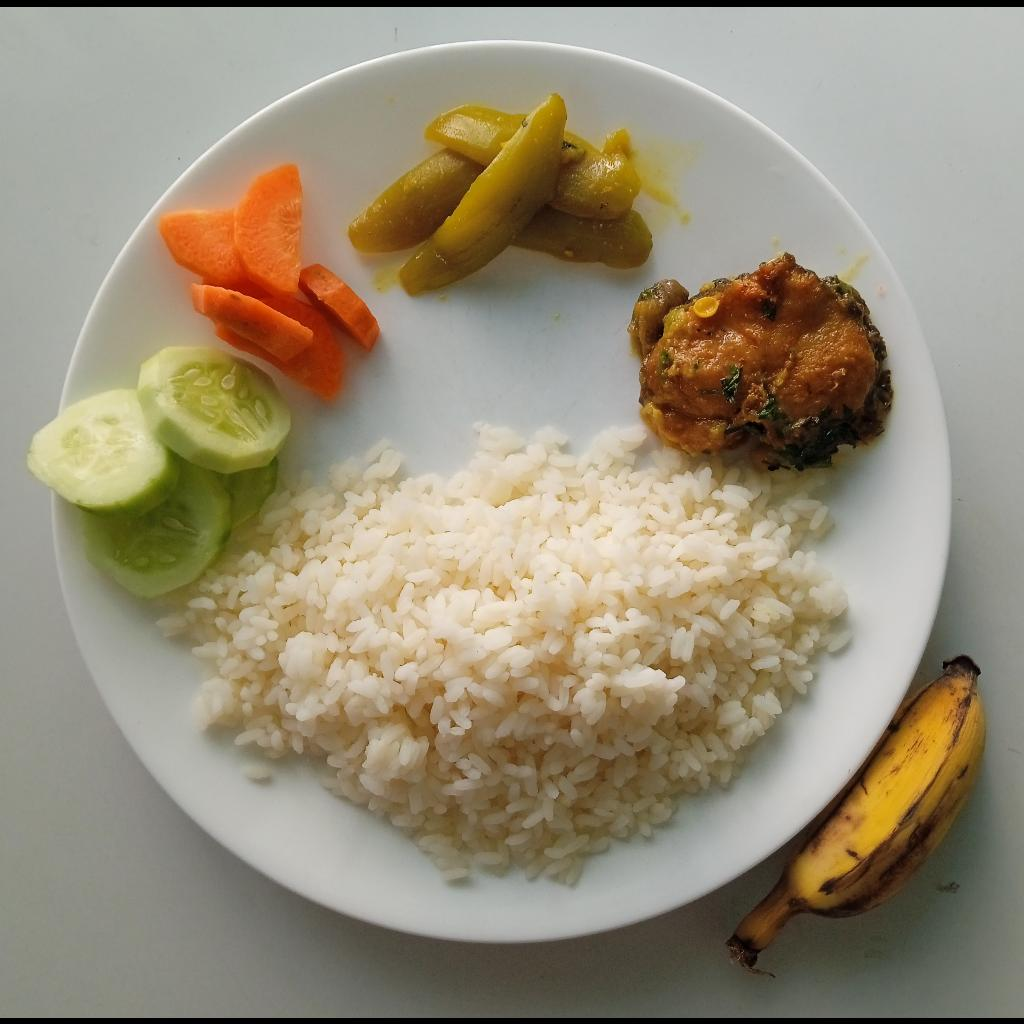banana: (726, 651, 987, 969)
carrot: (157, 162, 380, 403)
cucumber: (26, 344, 293, 598)
fish: (627, 251, 896, 468)
potol: (348, 93, 652, 295)
rice: (152, 420, 851, 888)
